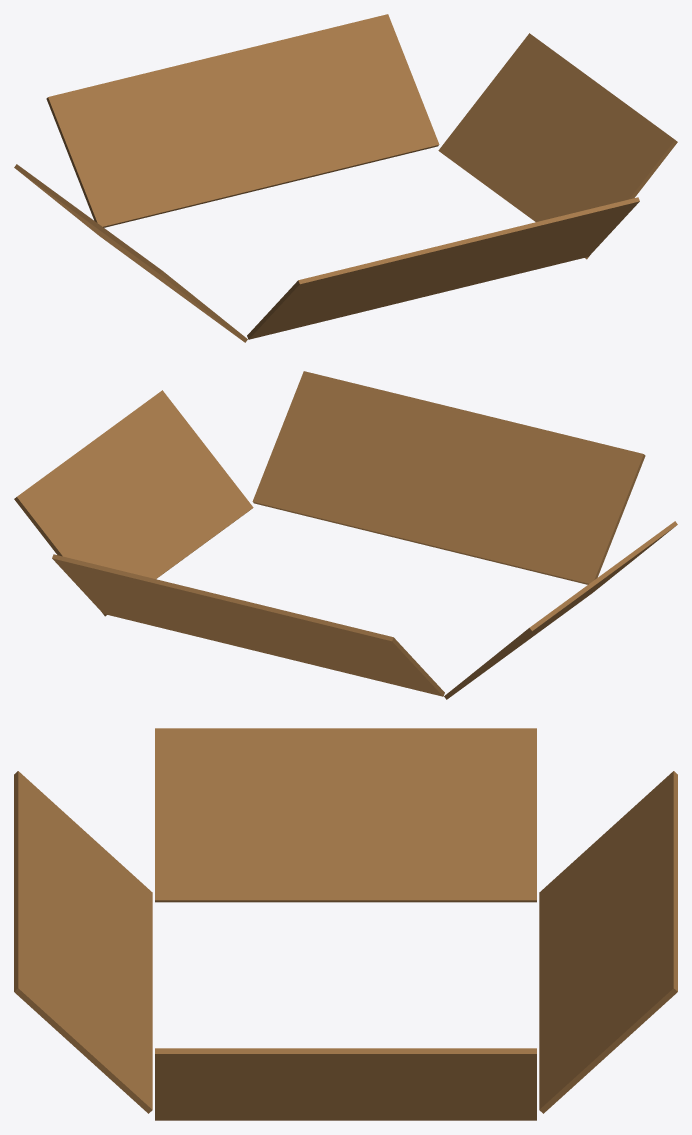
The model's file is CardboardBoxLitOpen.fbx.
3 renders of one model, top to bottom at view 1: azimuth 30°, elevation 25°; view 2: azimuth 150°, elevation 25°; view 3: azimuth 270°, elevation 25°, orthographic. The views are drawn at different scales.
Parts seen in each view (by area): view 1: LongLid, SmallLid, LongLid2, SmallLid.001; view 2: LongLid2, SmallLid, LongLid, SmallLid.001; view 3: SmallLid.001, LongLid, LongLid2, SmallLid.
Part boxes in pixels (x1,y1,x2,y2): LongLid: (46,14,439,227); SmallLid: (438,33,677,259); LongLid2: (247,197,639,339); SmallLid.001: (14,164,247,342); LongLid2: (252,371,645,584); SmallLid: (14,390,253,616); LongLid: (52,554,444,696); SmallLid.001: (444,521,677,699); SmallLid.001: (155,728,536,902); LongLid: (539,771,677,1113); LongLid2: (14,771,152,1113); SmallLid: (155,1048,536,1120).
Size of the model in its own units: 131 by 24.26 by 111.
